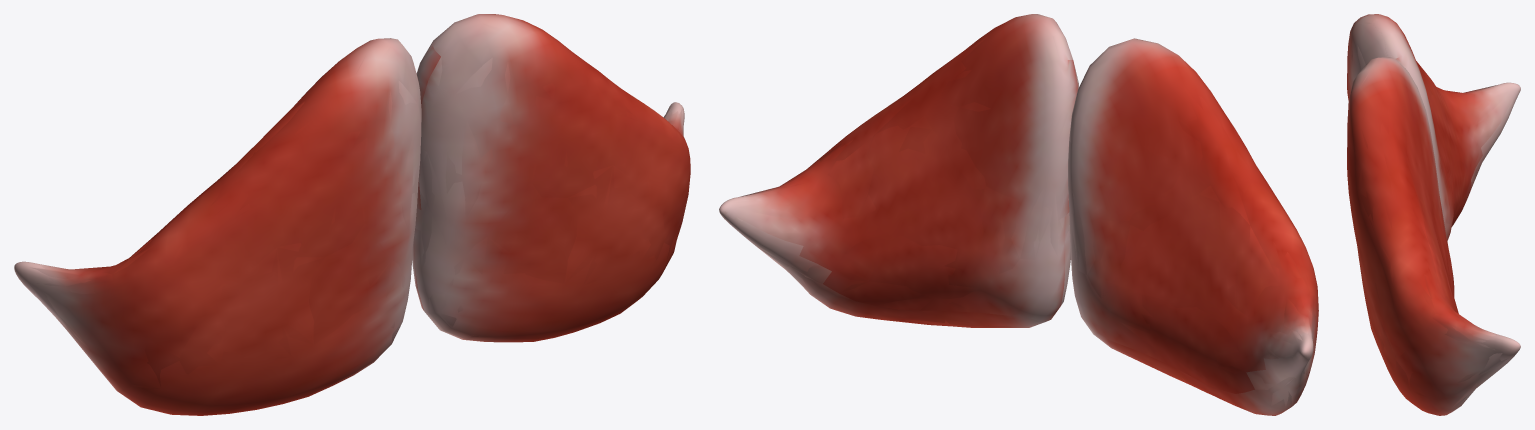
Rendered from Pectoralis descendens.fbx.
The picture shows the model from 3 angles, left to right: view 1: azimuth 30°, elevation 25°; view 2: azimuth 150°, elevation 25°; view 3: azimuth 270°, elevation 25°; orthographic projection. The views are drawn at different scales.
Parts seen in each view (by area): view 1: Pectoralis descendens, Pectoralis descendens low; view 2: Pectoralis descendens, Pectoralis descendens low; view 3: Pectoralis descendens, Pectoralis descendens low.
Boxes of the visible parts, x1,y1,x2,y2 form: Pectoralis descendens: (14, 14, 690, 415); Pectoralis descendens low: (24, 19, 685, 414); Pectoralis descendens: (719, 14, 1318, 415); Pectoralis descendens low: (723, 22, 1315, 415); Pectoralis descendens: (1347, 14, 1520, 415); Pectoralis descendens low: (1347, 15, 1513, 408).
Bounding box in the file's own units: 33.93 × 17.36 × 9.54.
1 material, 1 textured.
